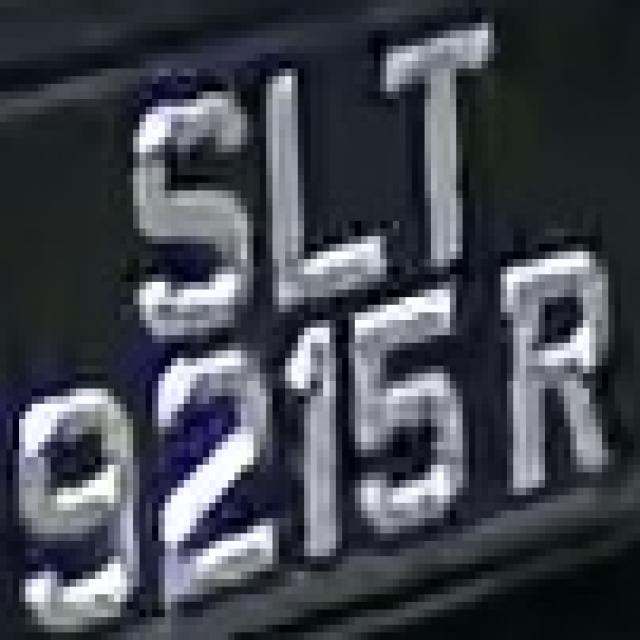1: (291, 297, 336, 579)
2: (133, 320, 292, 594)
5: (336, 290, 481, 548)
9: (0, 4, 2, 8)
L: (241, 46, 386, 320)
R: (469, 252, 615, 510)
S: (102, 69, 254, 358)
T: (361, 23, 513, 282)
